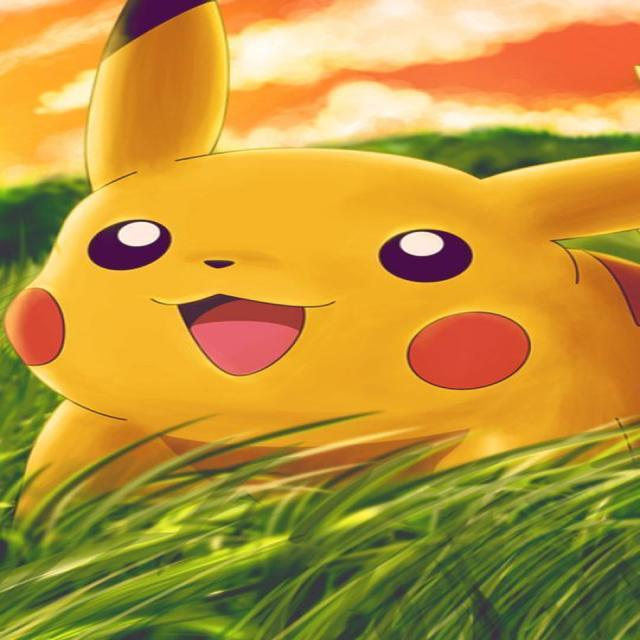pikachu: (3, 0, 640, 539)
